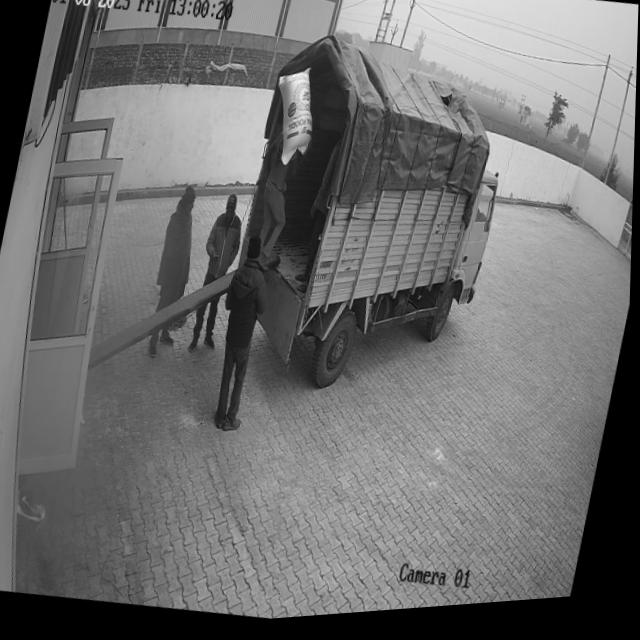sack: (261, 65, 324, 172)
